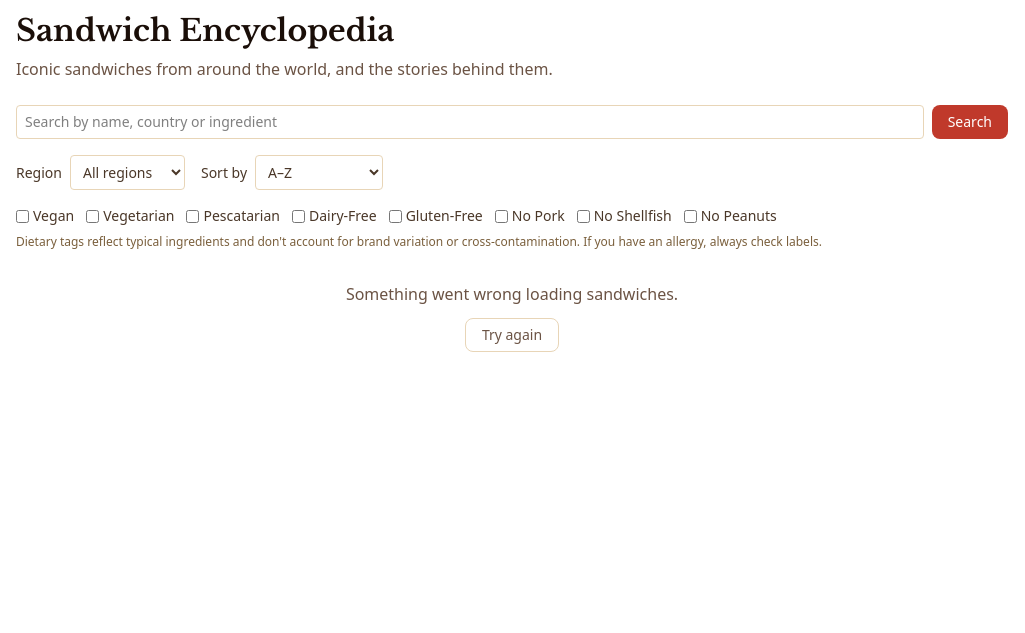
Test: SandwichIndex results › shows an error with a retry button when loading fails
Expected: the message shows "Something went wrong", [346, 283, 678, 305]
Step 1. Click the button "Try again" → (512, 335), box [465, 318, 559, 352]
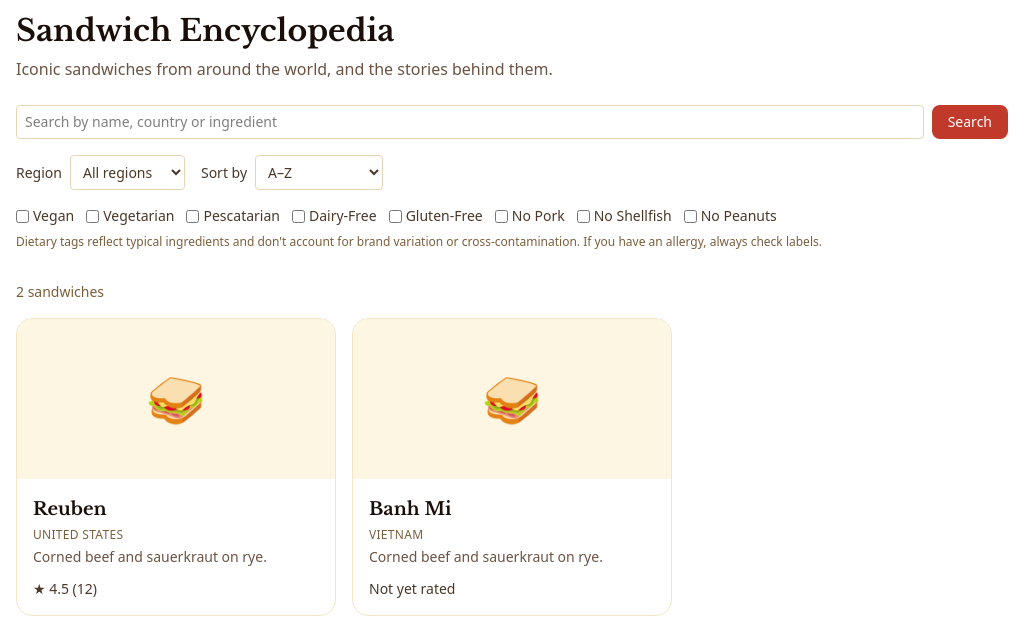
Expected: the heading "Reuben" is shown, [33, 498, 107, 520]
